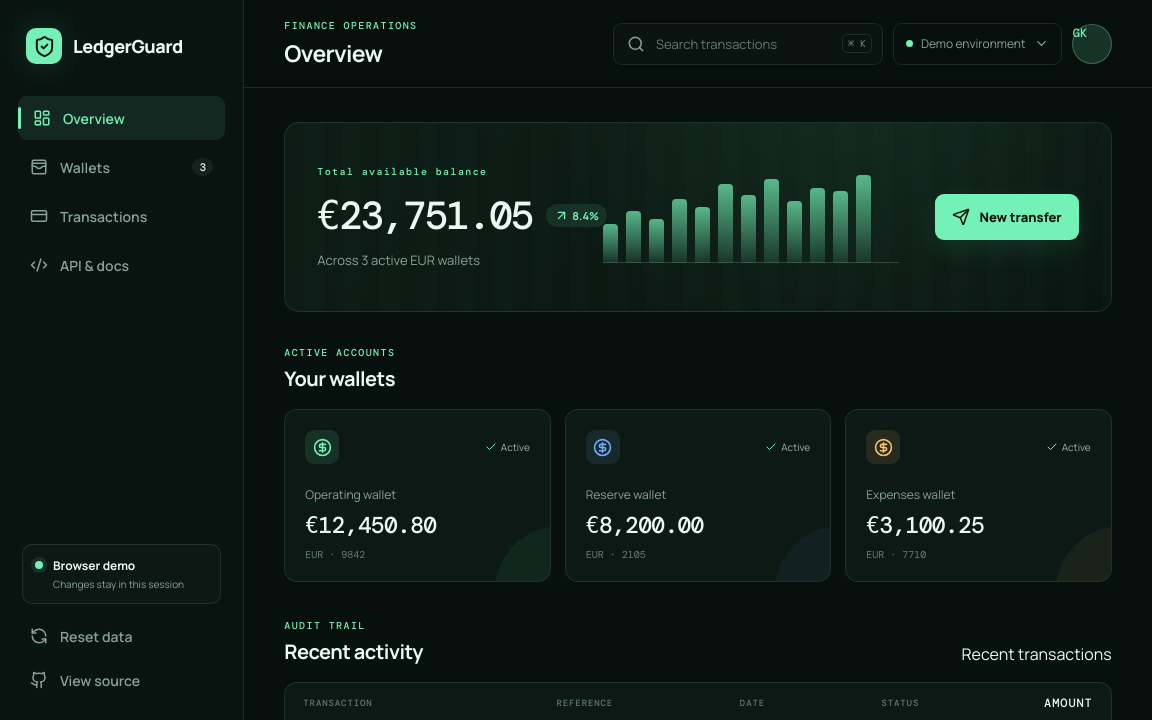
Test: LedgerGuard dashboard › completes a valid transfer in demo mode
The image size is (1152, 720).
Click the button "New transfer".
click(1007, 217)  # box [935,194,1079,240]
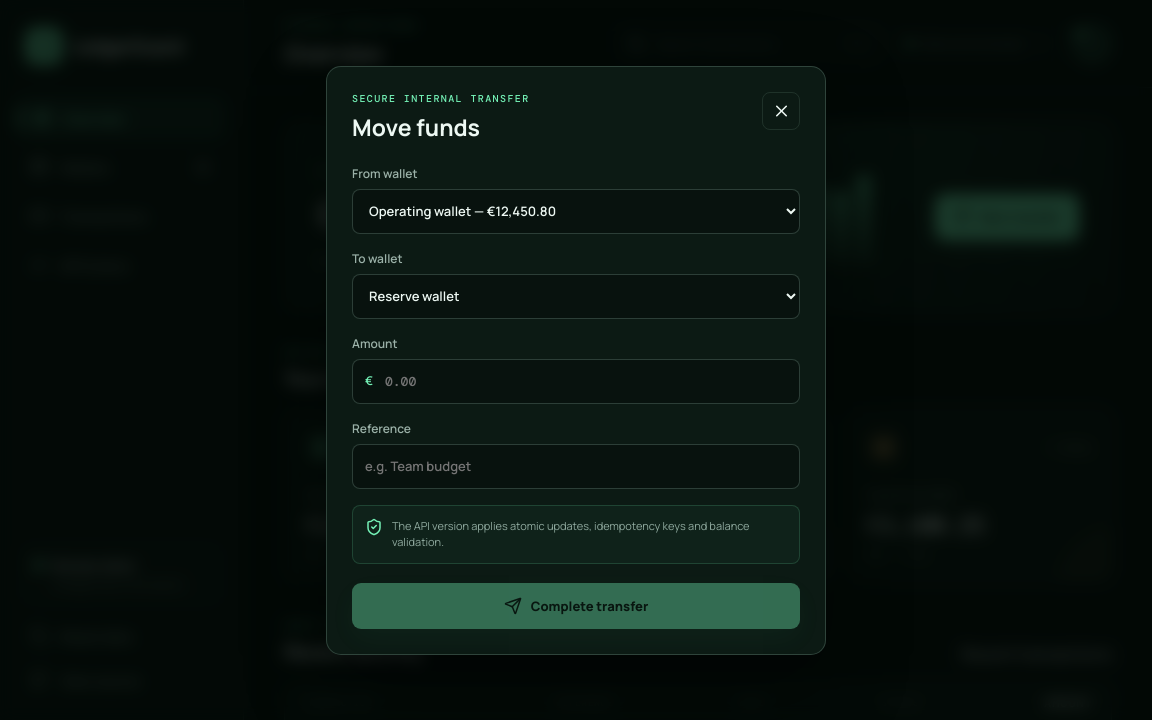
Type "125" into the number field labelled "Amount €".
click(576, 381); type("125")  # box [352,358,800,404]
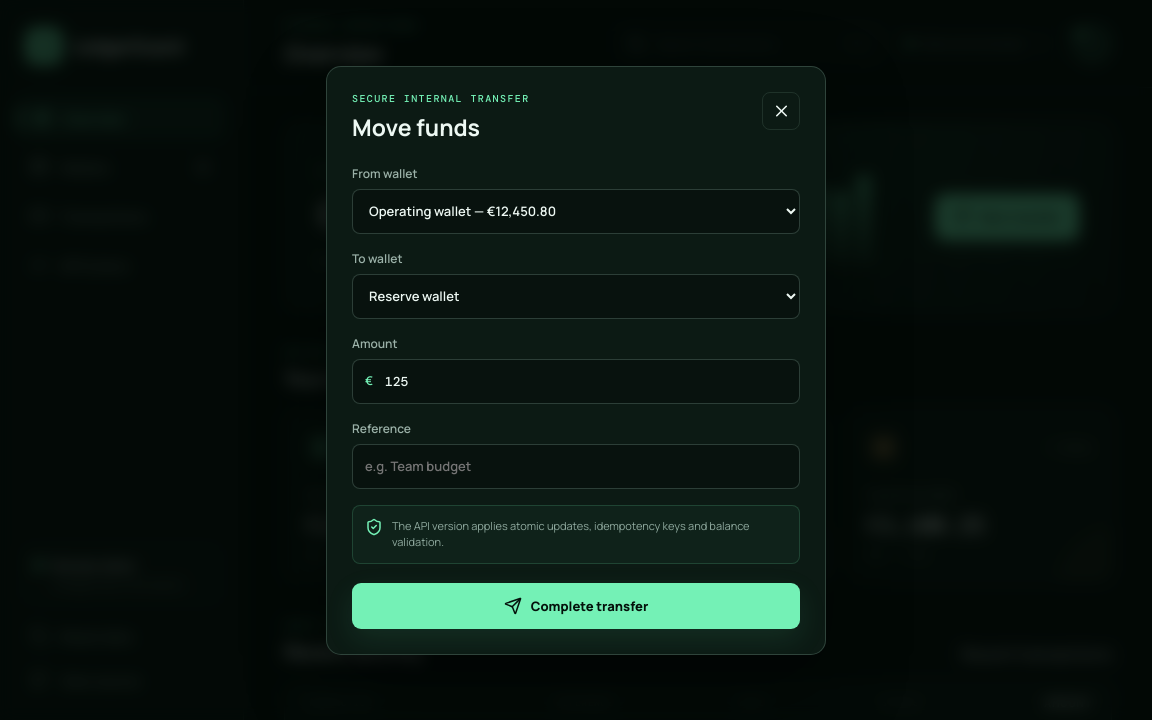
Type "QA transfer" into the field labelled "Reference".
click(576, 466); type("QA transfer")  # box [352,444,800,488]
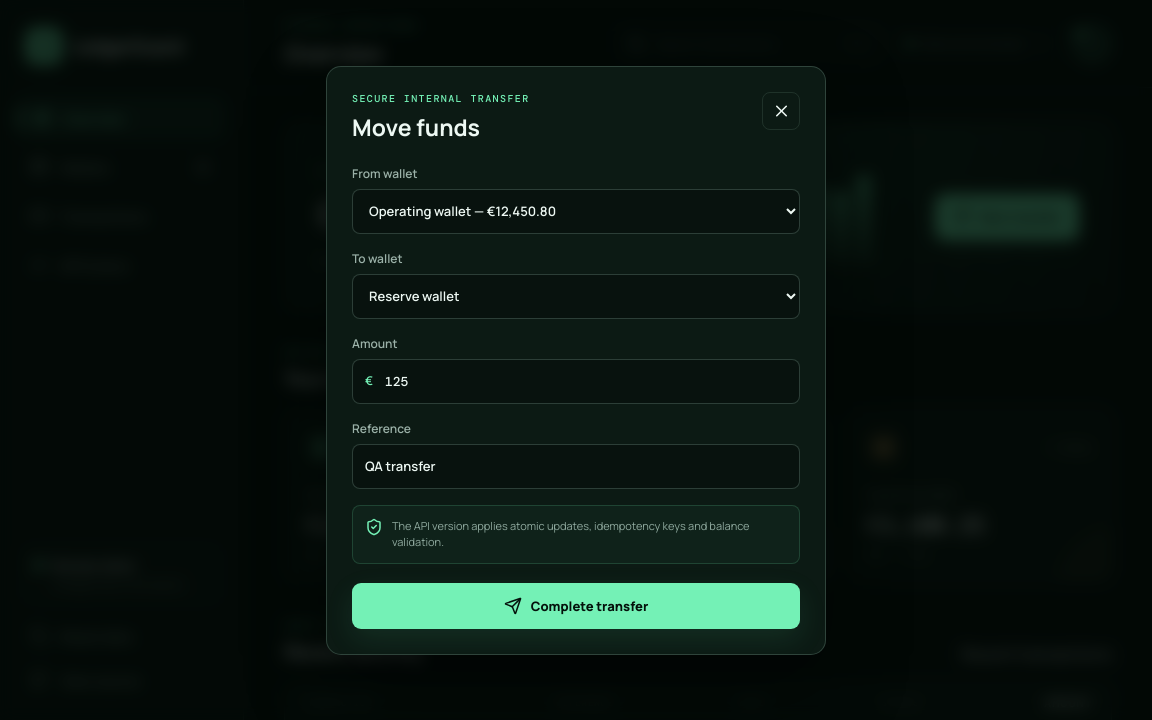
Click the button "Complete transfer".
click(576, 606)  # box [352,582,800,628]
(page scrolled)
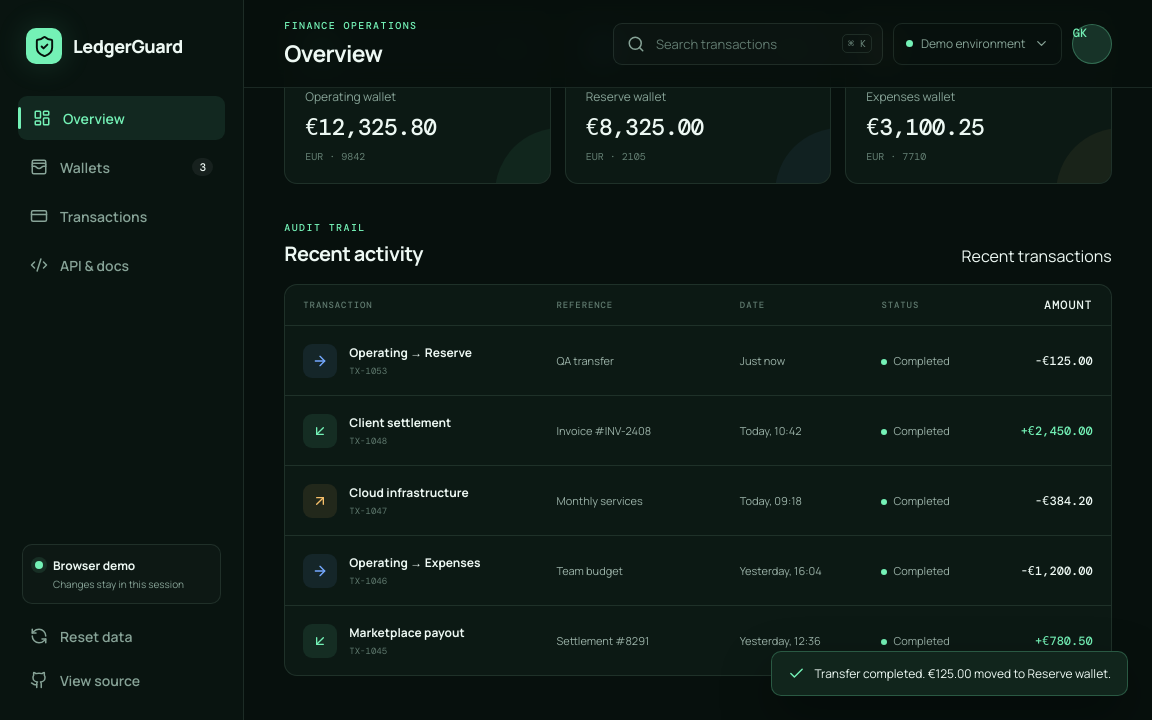
Expected: the message shows "Transfer completed", [814,665,1111,682]
Expected: the text "QA transfer" is shown, [556,353,614,368]
